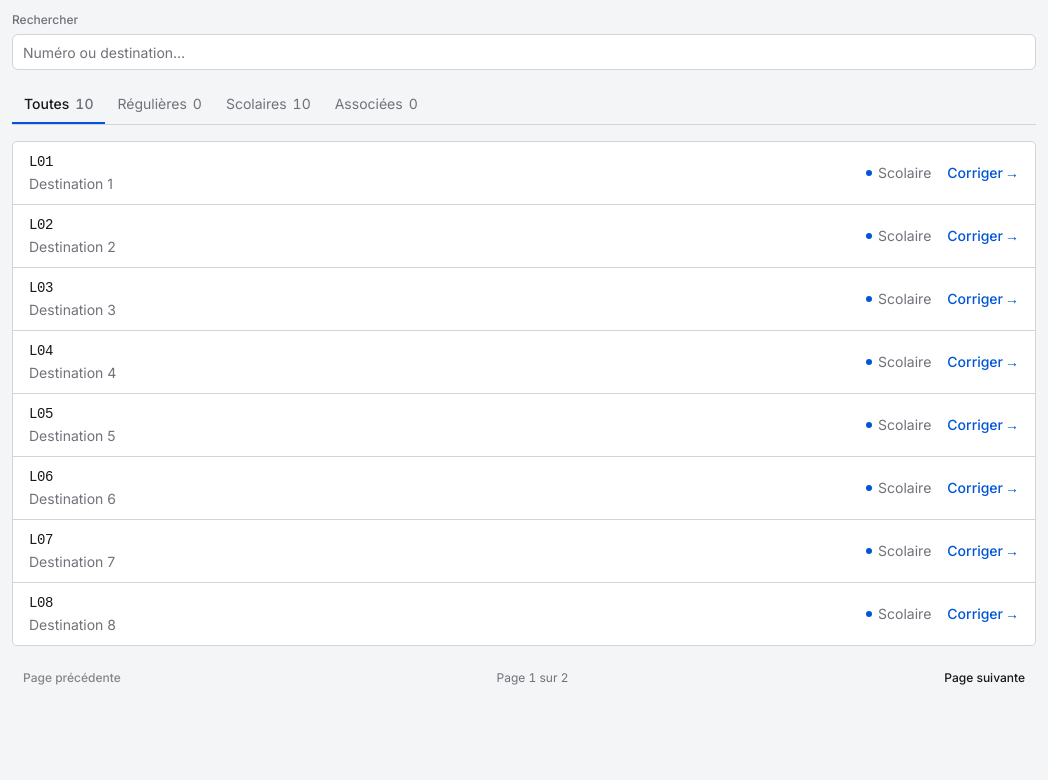
Test: RouteList — dashboard périmètre › pagine le catalogue : 8 lignes par page
Expected: the text "L01" is shown, 29,154 -> 53,170
Expected: the text "L08" is shown, 29,595 -> 53,611
Click the button "Page suivante".
click(985, 678)  # box 933,662 -> 1036,694
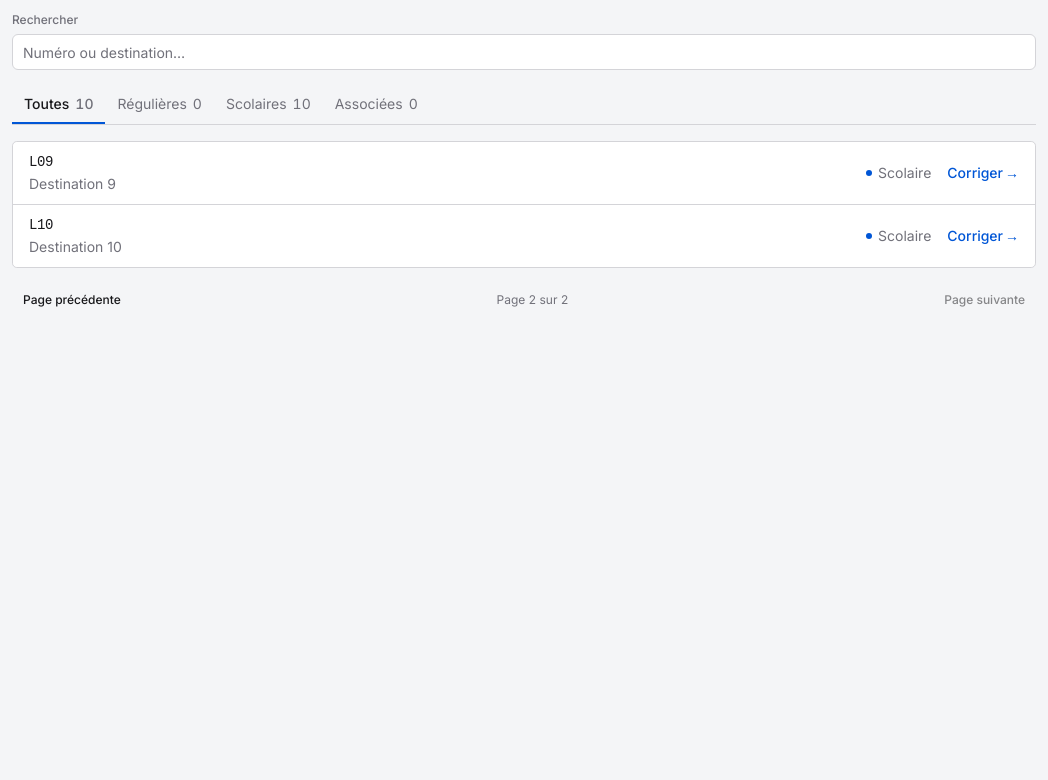
Expected: the text "L09" is shown, 29,154 -> 53,170
Expected: the text "L10" is shown, 29,217 -> 53,233
Expected: the link "L01" is gone
